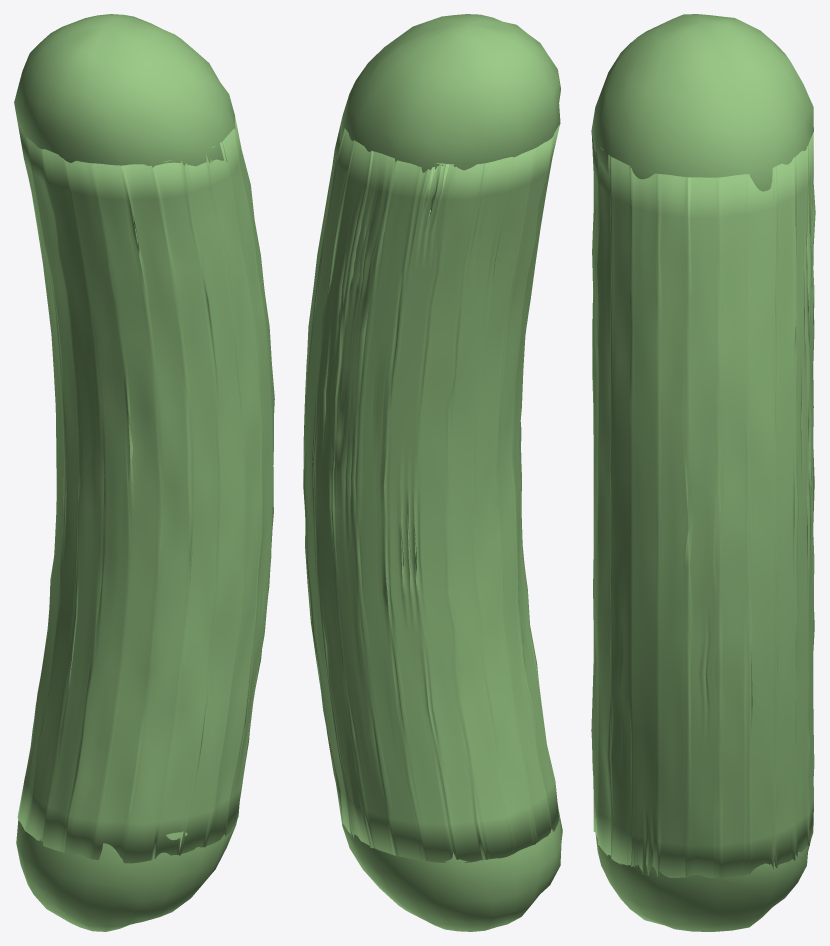
The model's file is Cucumber.glb.
The picture shows the model from 3 angles, left to right: view 1: azimuth 30°, elevation 25°; view 2: azimuth 150°, elevation 25°; view 3: azimuth 270°, elevation 25°; orthographic projection.
Visible parts, largest first — view 1: Cucumber; view 2: Cucumber; view 3: Cucumber.
Part boxes in pixels (<box>): Cucumber: <box>14,14,274,931</box>; Cucumber: <box>303,14,562,931</box>; Cucumber: <box>591,14,815,931</box>.
Bounding box in the file's own units: 0.3309 × 1.22 × 0.2755.
